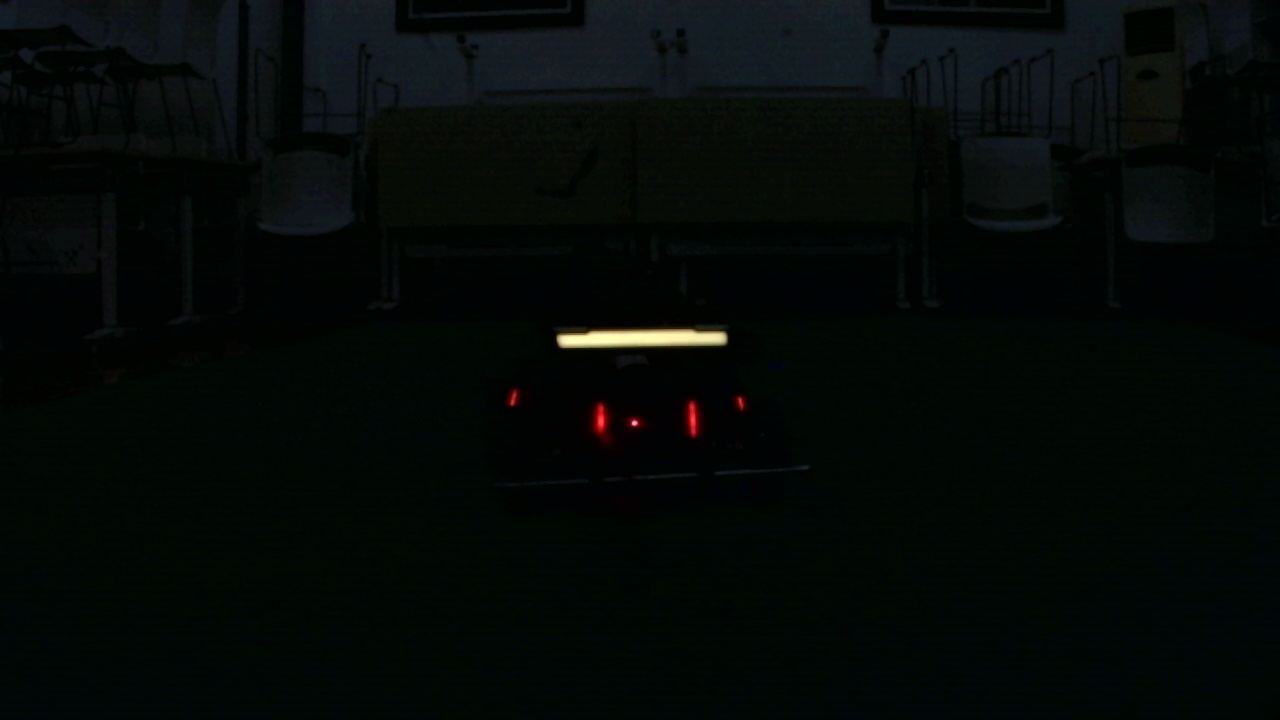lamp: (593, 399, 611, 440), (685, 398, 702, 441)
pair1: (595, 404, 698, 437)
